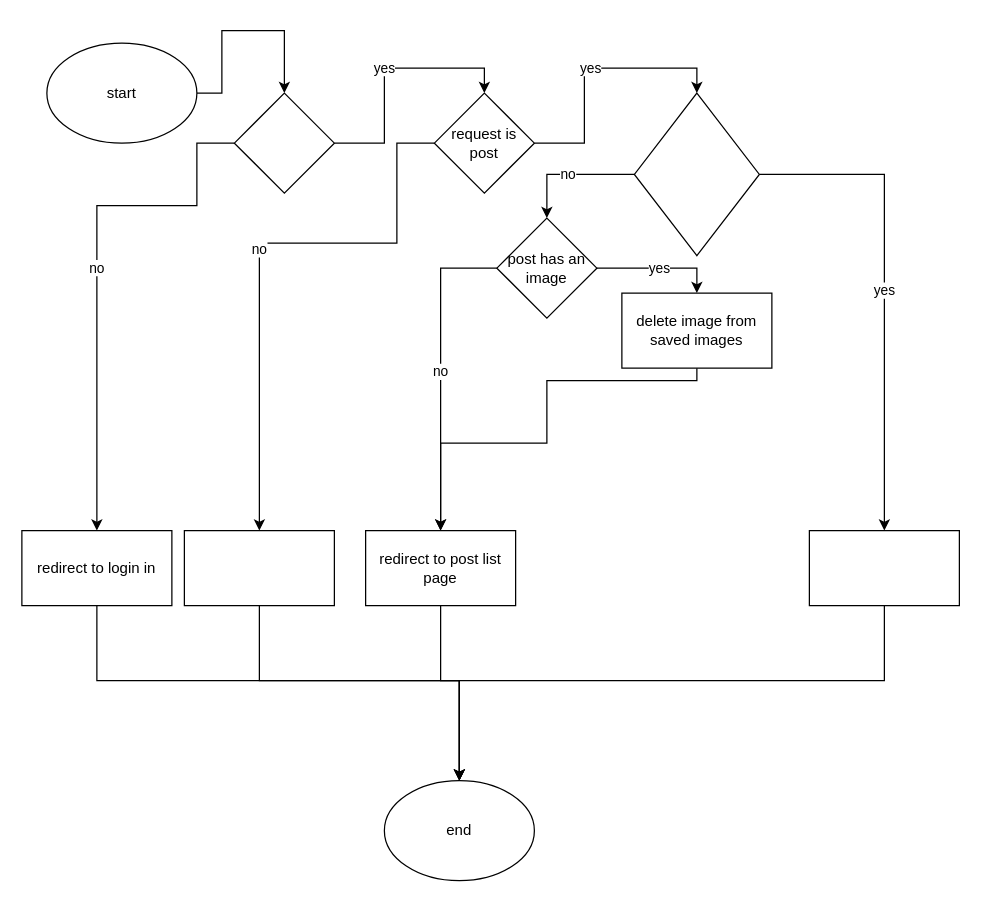
The diagram is 981 pixels wide and 903 high, and some of its shapes have lost their labels. Here are the shapes that lost their labels. From the top down, the centre of each, then its label:
point 283,142: logged in
point 696,174: user is not the author and is not an admin
point 258,567: redirect to blogs page
point 883,567: redirect to blogs
